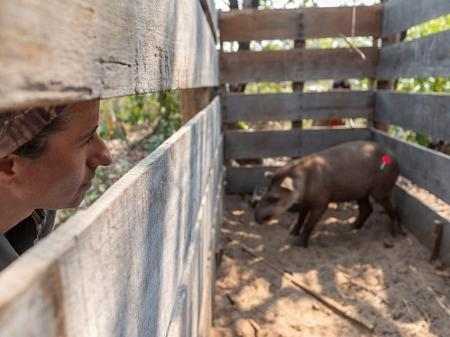Anta: (236, 136, 405, 247)
